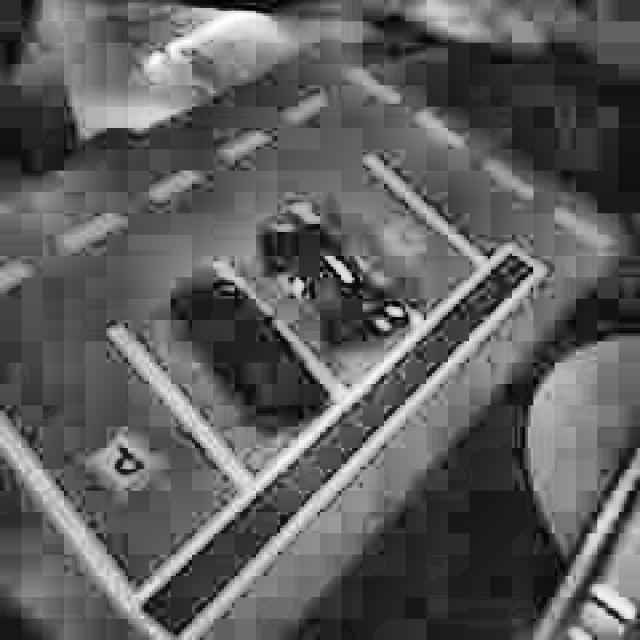car: (148, 255, 338, 436), (242, 200, 408, 365)
